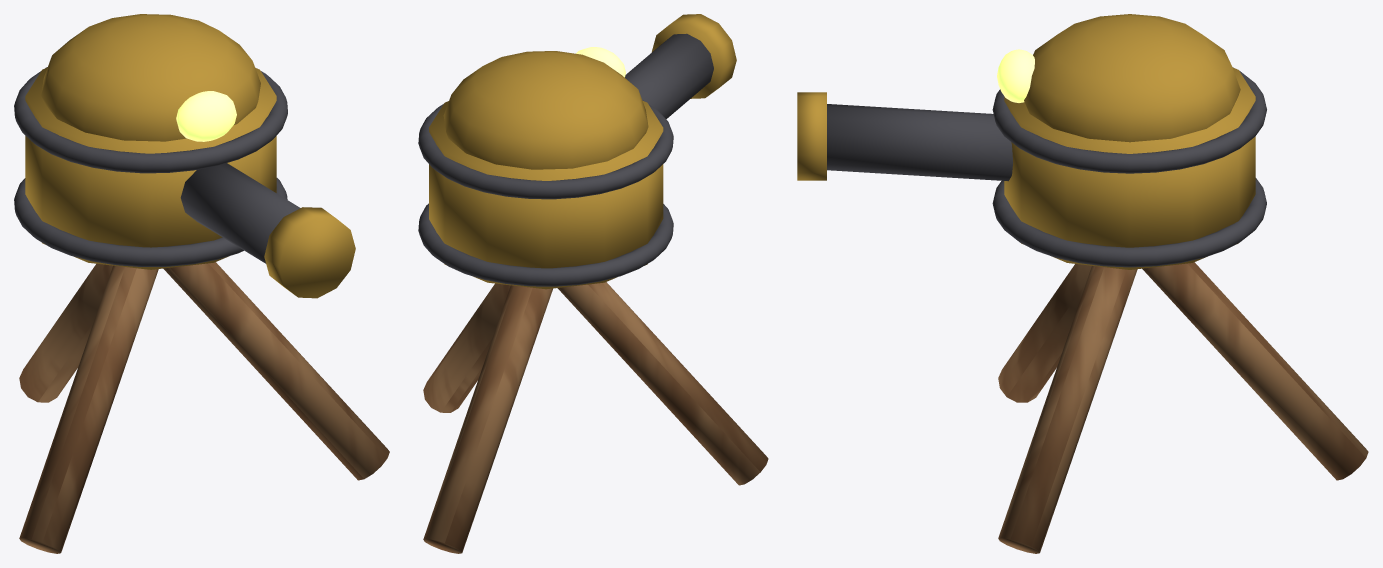
Rendered from turret.glb.
3 views of the same model, side by side, from view 1: azimuth 30°, elevation 25°; view 2: azimuth 150°, elevation 25°; view 3: azimuth 270°, elevation 25° (orthographic). The views are drawn at different scales.
Parts seen in each view (by area): view 1: turret.001; view 2: turret.001; view 3: turret.001.
Boxes of the visible parts, bbox=[...] form: turret.001: bbox=[14, 14, 389, 553]; turret.001: bbox=[418, 14, 768, 553]; turret.001: bbox=[797, 14, 1368, 553].
Bounding box in the file's own units: 0.5692 × 0.6692 × 0.773.
Materials: 4 (1 with a texture image).
